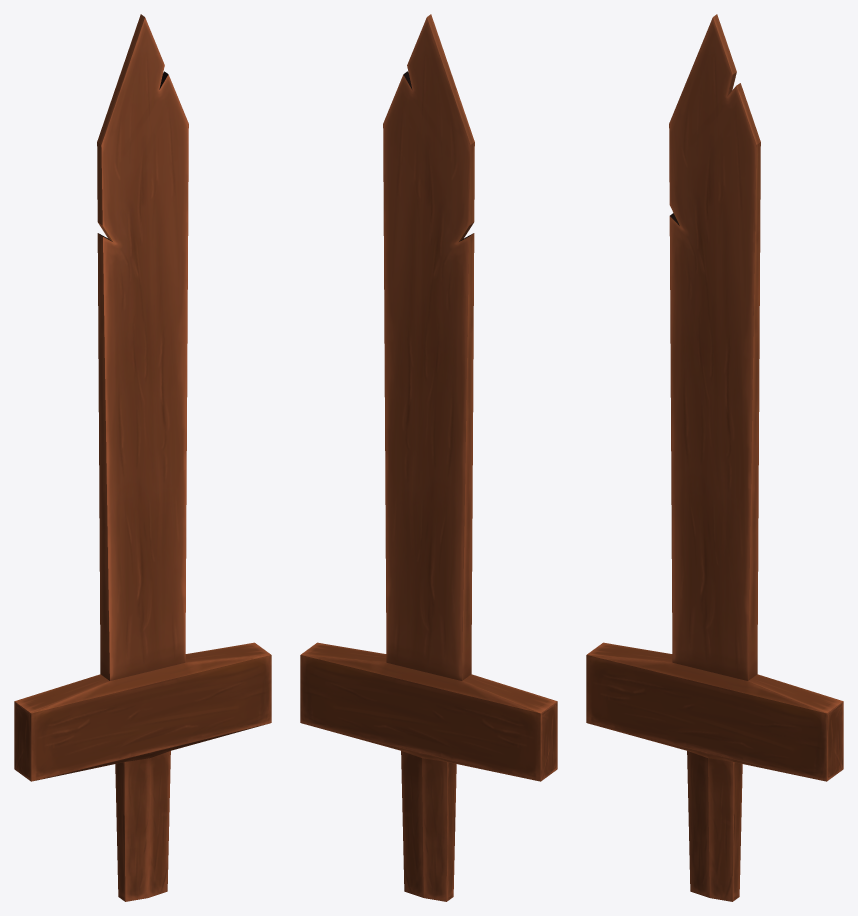
Rendered from sword_wood_1.glb.
The picture shows the model from 3 angles, left to right: view 1: azimuth 30°, elevation 25°; view 2: azimuth 150°, elevation 25°; view 3: azimuth 330°, elevation 25°; orthographic projection.
Visible parts, largest first — view 1: Cube_0; view 2: Cube_0; view 3: Cube_0.
Part boxes in pixels (left/top/right/bottom): Cube_0: left=14, top=14, right=271, bottom=901; Cube_0: left=300, top=14, right=557, bottom=901; Cube_0: left=586, top=14, right=843, bottom=901.
Bounding box in the file's own units: 1.05 × 3.66 × 0.1261.
Materials: 1 (1 with a texture image).
